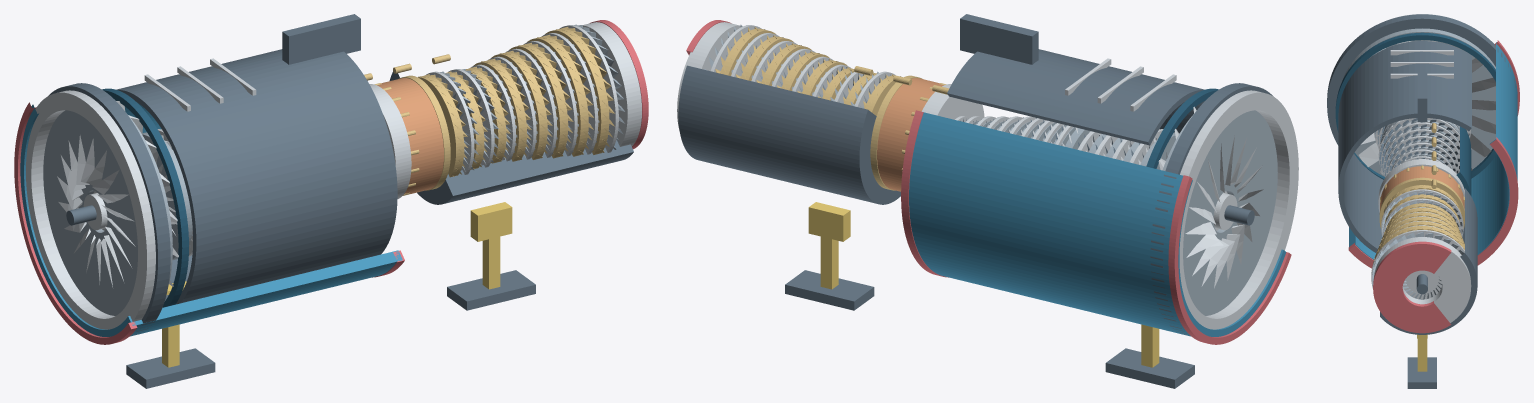
File: genx-inspired-cutaway.glb
The picture shows the model from 3 angles, left to right: view 1: azimuth 30°, elevation 25°; view 2: azimuth 150°, elevation 25°; view 3: azimuth 270°, elevation 25°; orthographic projection. The views are drawn at different scales.
Parts seen in each view (by area): view 1: Bypass duct inner liner, Fan hub disk, Fan inlet lip, Blue nacelle cutaway shell, Turbine outer case cutaway, Fan containment case, Annular combustor outer liner, Engine mounting pylon interface, Fan case inner ring, Exhaust nozzle, Inlet cutaway edge, Engine stand foot -2.75 (+25 smaller); view 2: Blue nacelle cutaway shell, Turbine outer case cutaway, Bypass duct inner liner, Fan hub disk, Fan inlet lip, Annular combustor outer liner, Engine mounting pylon interface, Inlet cutaway edge, Fan containment case, Engine stand foot -2.75, Engine stand foot 2.35, Engine stand yellow saddle 2.35 (+13 smaller); view 3: Bypass duct inner liner, Blue nacelle cutaway shell, Exhaust cutaway lip, Fan containment case, Exhaust nozzle, Fan hub disk, Fan case inner ring, Rear nacelle cutaway edge, Turbine outer case cutaway, Annular combustor outer liner, Engine stand foot 2.35, Combustor rear flange (+32 smaller).
Part boxes in pixels (x1,y1,x2,y2): Bypass duct inner liner: [116, 49, 397, 304]; Fan hub disk: [43, 110, 172, 315]; Fan inlet lip: [26, 90, 155, 329]; Blue nacelle cutaway shell: [20, 102, 402, 336]; Turbine outer case cutaway: [389, 71, 633, 204]; Fan containment case: [48, 83, 170, 335]; Annular combustor outer liner: [377, 78, 443, 194]; Engine mounting pylon interface: [282, 14, 360, 64]; Fan case inner ring: [102, 88, 188, 307]; Exhaust nozzle: [583, 22, 641, 146]; Inlet cutaway edge: [14, 102, 137, 344]; Engine stand foot -2.75: [126, 348, 215, 388]; Blue nacelle cutaway shell: [909, 112, 1286, 336]; Turbine outer case cutaway: [678, 65, 900, 204]; Bypass duct inner liner: [947, 49, 1204, 145]; Fan hub disk: [1162, 110, 1277, 315]; Fan inlet lip: [1179, 90, 1298, 329]; Annular combustor outer liner: [877, 78, 943, 191]; Engine mounting pylon interface: [960, 14, 1038, 64]; Inlet cutaway edge: [1168, 175, 1291, 344]; Fan containment case: [1150, 83, 1273, 335]; Engine stand foot -2.75: [1105, 348, 1194, 388]; Engine stand foot 2.35: [785, 270, 874, 310]; Engine stand yellow saddle 2.35: [808, 202, 850, 241]; Bypass duct inner liner: [1338, 41, 1471, 253]; Blue nacelle cutaway shell: [1349, 42, 1517, 259]; Exhaust cutaway lip: [1373, 241, 1451, 333]; Fan containment case: [1327, 14, 1517, 145]; Exhaust nozzle: [1373, 237, 1471, 322]; Fan hub disk: [1342, 28, 1495, 176]; Fan case inner ring: [1335, 32, 1496, 179]; Rear nacelle cutaway edge: [1348, 137, 1518, 268]; Turbine outer case cutaway: [1380, 188, 1477, 334]; Annular combustor outer liner: [1380, 166, 1464, 209]; Engine stand foot 2.35: [1407, 357, 1436, 388]; Combustor rear flange: [1379, 177, 1464, 228].
Size of the model in its own units: 8.7 by 4.73 by 3.6.
